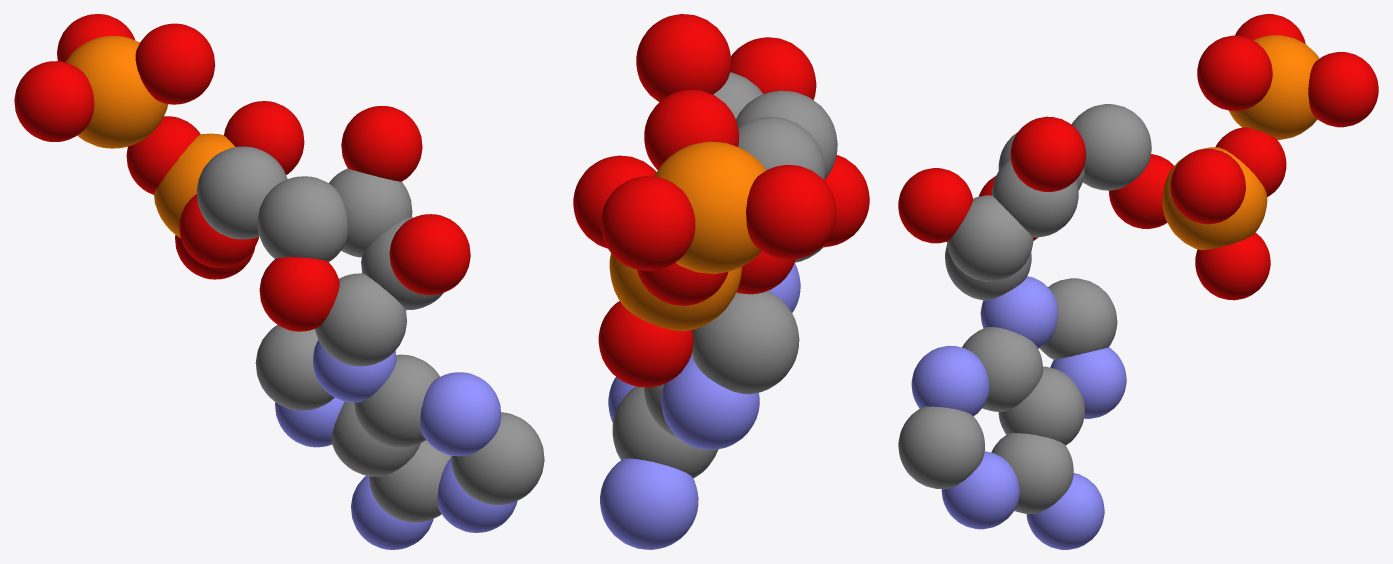
File: Vancomycin.FBX
3 renders of one model, left to right at view 1: azimuth 30°, elevation 25°; view 2: azimuth 150°, elevation 25°; view 3: azimuth 270°, elevation 25°, orthographic. The views are drawn at different scales.
Parts seen in each view (by area): view 1: Vancomycin_V01; view 2: Vancomycin_V01; view 3: Vancomycin_V01.
Boxes of the visible parts, x1,y1,x2,y2 form: Vancomycin_V01: (14,14,544,549); Vancomycin_V01: (573,14,869,549); Vancomycin_V01: (898,14,1378,549).
Bounding box in the file's own units: 0.9266 × 1.25 × 1.21.
